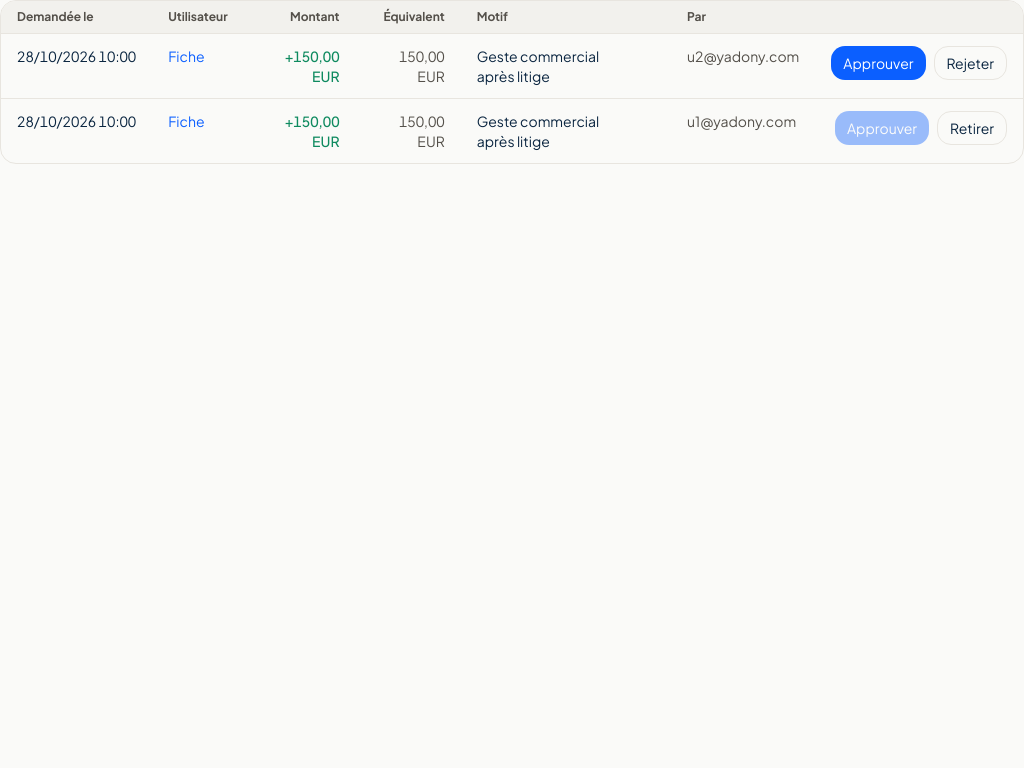
Test: pages/ajustements-solde › refus du back (409) : le message reste affiché après le rechargement
The image size is (1024, 768).
Click the button with test id "approval-approve-r-other" at (878, 63), box [831,46,926,80]
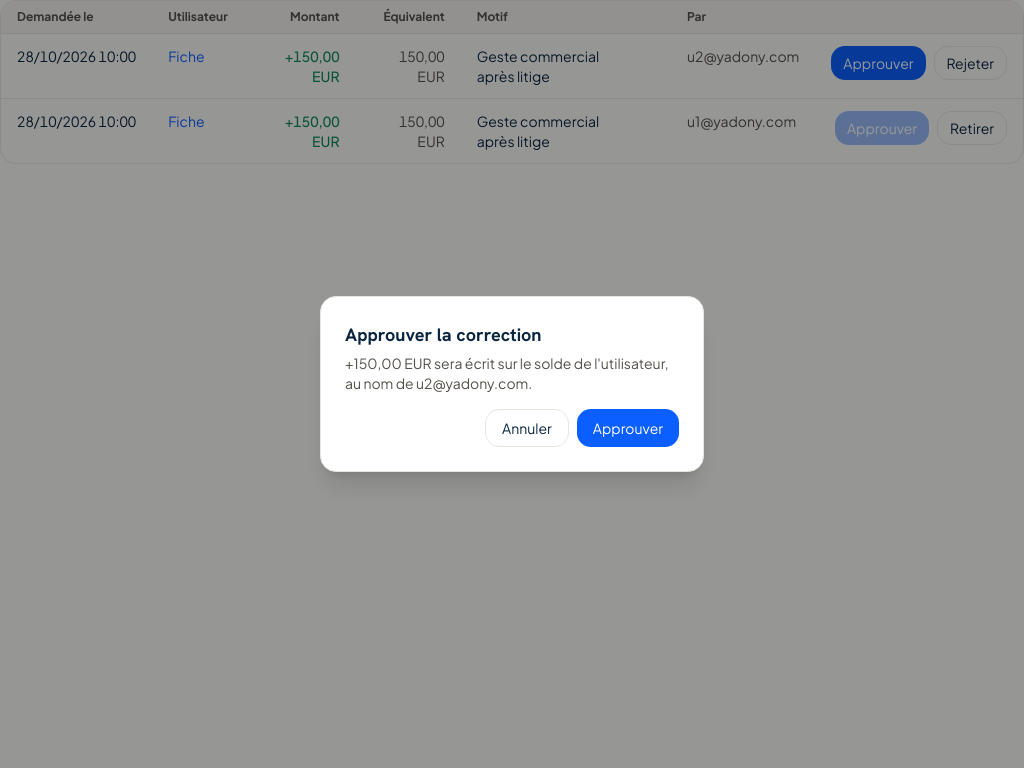
Click the button with test id "confirm" at (628, 428), box [577,409,679,447]
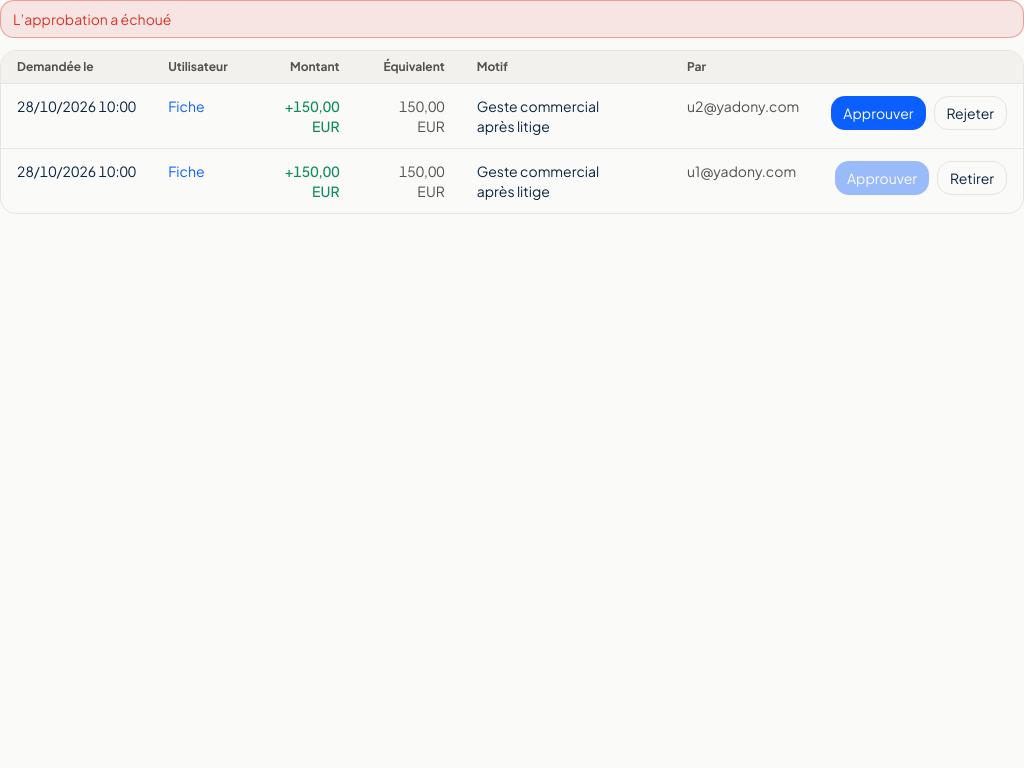
Expected: the message "L’approbation a échoué" is shown, [0,0,1023,38]
